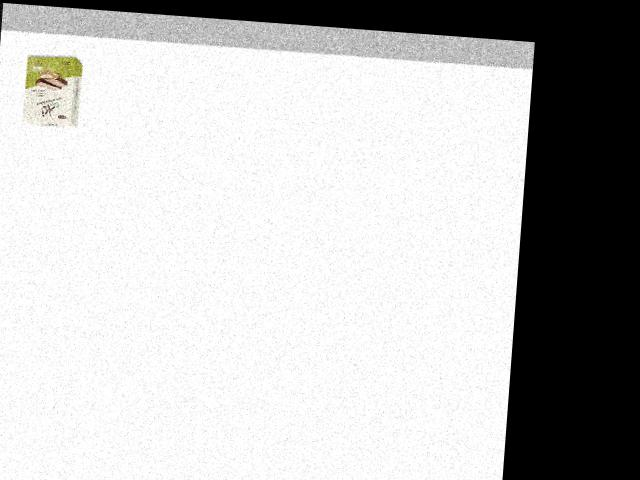chocolate: (15, 49, 87, 130)
